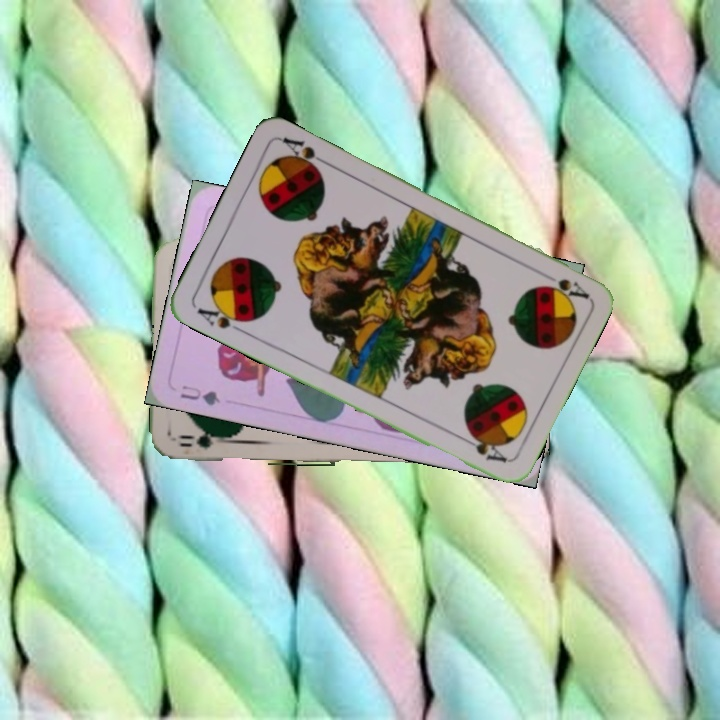GO: (175, 428, 233, 451)
GU: (176, 381, 223, 408)
SA: (192, 299, 252, 336), (536, 266, 591, 302)
